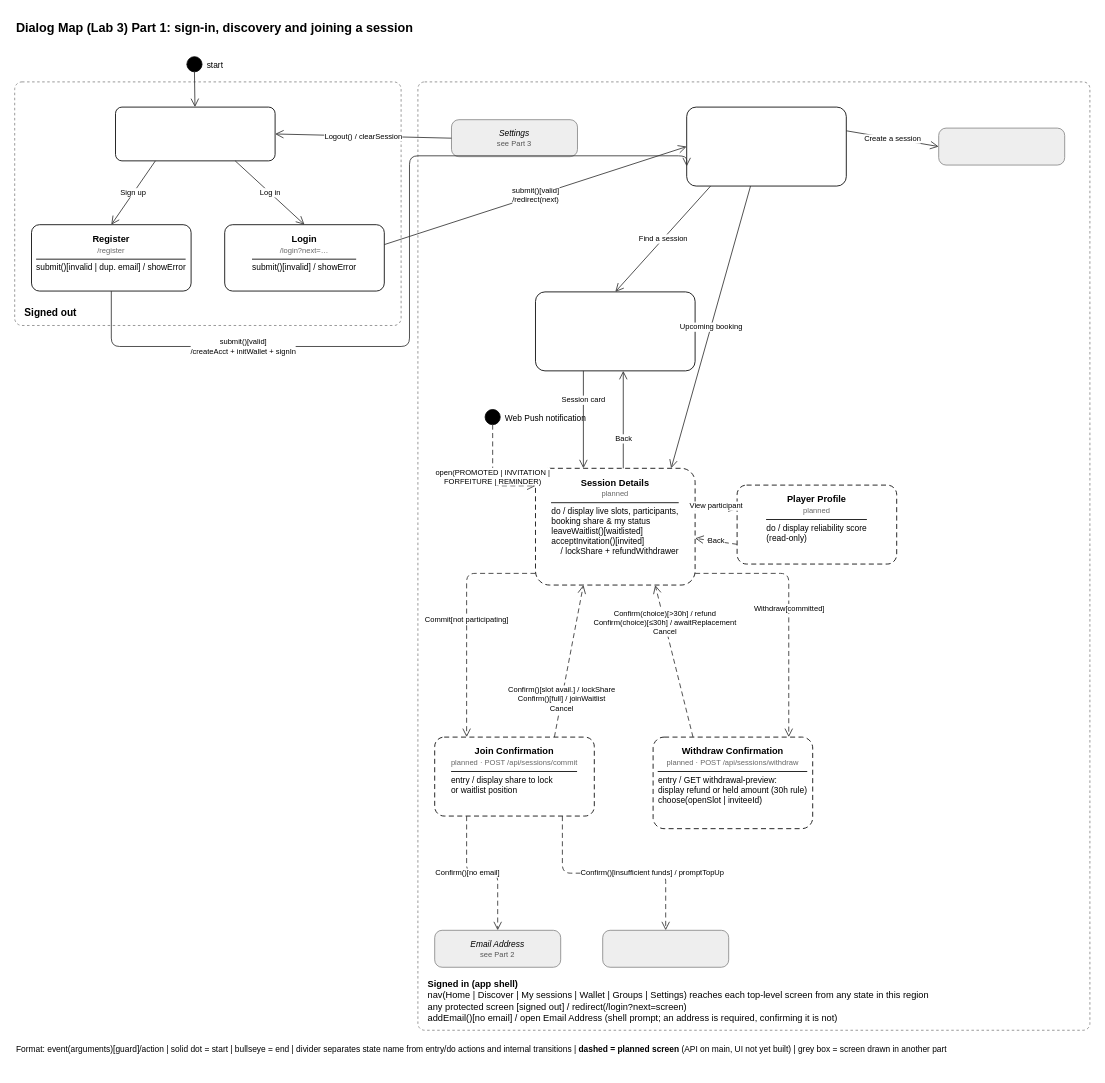
This 1105x1083 diagram has some shape labels left out. The shapes that lost their labels are listed below. From the top down, each one's centre as x and y in pixels, then its label:
point 195,133: Landing /
point 766,146: Home / entry / load upcoming bookings, wallet summary & weather
point 1001,146: Create Session: Venue Details see Part 2
point 615,331: Discover /discover do / poll live slots (≤3s) search(query, filters) / refresh
point 665,948: Wallet see Part 3
